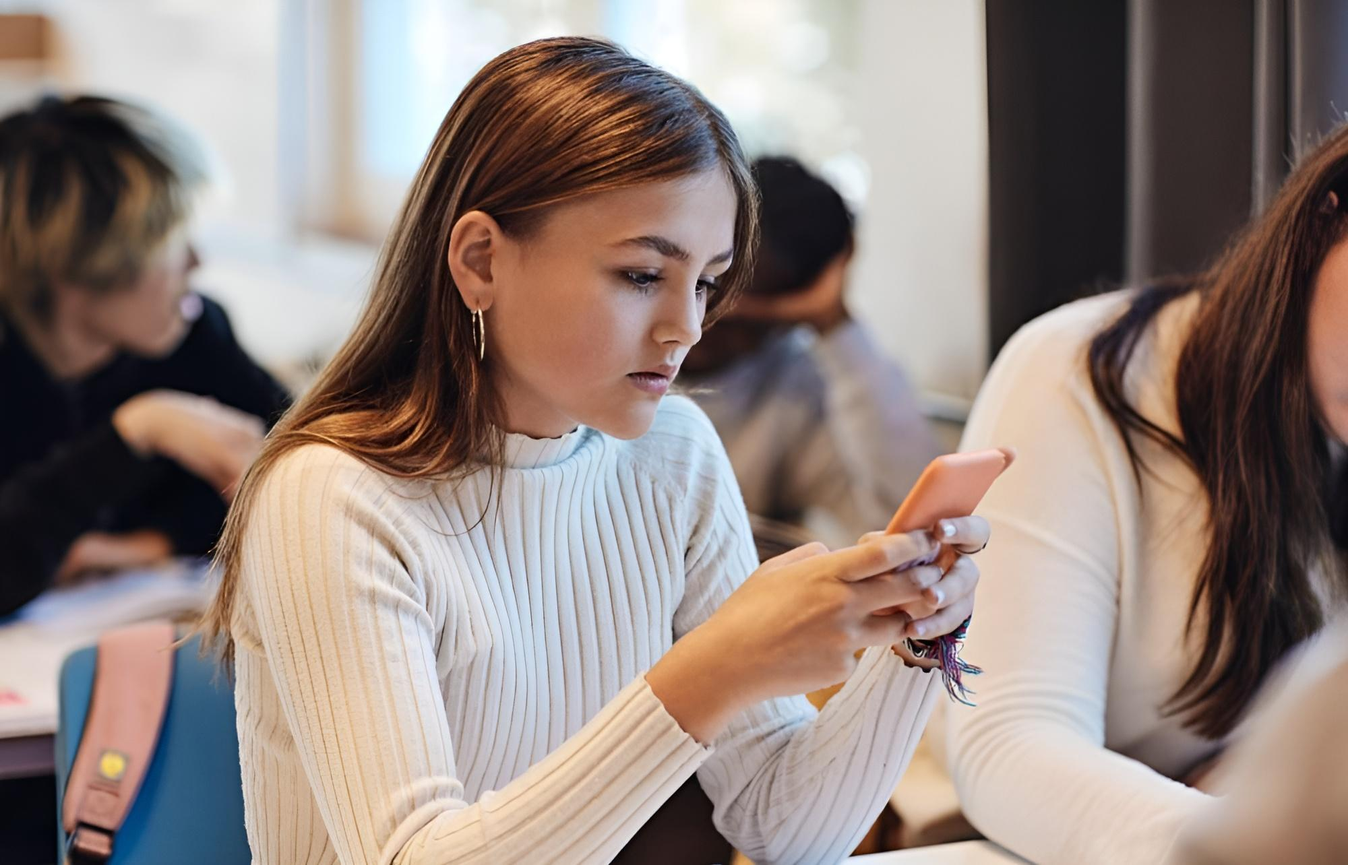phone: (230, 40, 1005, 865)
